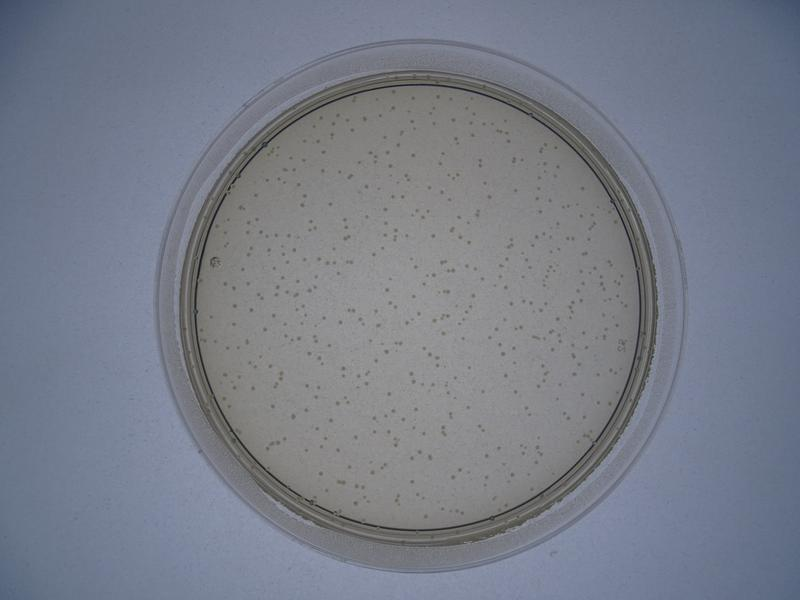colony: (576, 183, 588, 193), (380, 204, 390, 213), (409, 150, 418, 159), (468, 130, 477, 139), (468, 290, 478, 298), (427, 232, 438, 239), (315, 470, 326, 477), (478, 387, 487, 395), (464, 403, 473, 411), (493, 444, 503, 451), (230, 321, 241, 327), (501, 315, 509, 323), (512, 186, 519, 195), (327, 200, 334, 209), (318, 167, 327, 174), (230, 302, 239, 309), (366, 336, 373, 345), (352, 433, 359, 442), (579, 390, 586, 399), (297, 203, 307, 209), (481, 179, 489, 186), (268, 403, 276, 410), (302, 406, 310, 413), (248, 384, 256, 391), (502, 372, 509, 380), (465, 364, 473, 371), (501, 116, 509, 123), (431, 120, 439, 127), (413, 406, 421, 413), (260, 326, 268, 333), (579, 329, 587, 336), (303, 447, 310, 455), (301, 192, 310, 198), (337, 319, 344, 326), (537, 208, 544, 215), (321, 148, 328, 155), (335, 270, 342, 277), (459, 336, 467, 342), (252, 193, 260, 199), (271, 312, 277, 320), (334, 448, 342, 454), (383, 286, 390, 292), (371, 251, 377, 258), (315, 256, 322, 262), (485, 194, 492, 200), (386, 391, 393, 397), (502, 284, 509, 290), (411, 295, 418, 300), (364, 213, 369, 220), (514, 389, 520, 394)
